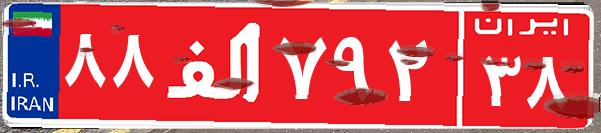2: (385, 28, 445, 110)
3: (475, 38, 525, 113)
7: (273, 28, 330, 110)
8: (57, 26, 110, 107), (110, 28, 158, 105), (525, 38, 570, 115)
9: (330, 28, 385, 110)
الف: (158, 15, 273, 115)
